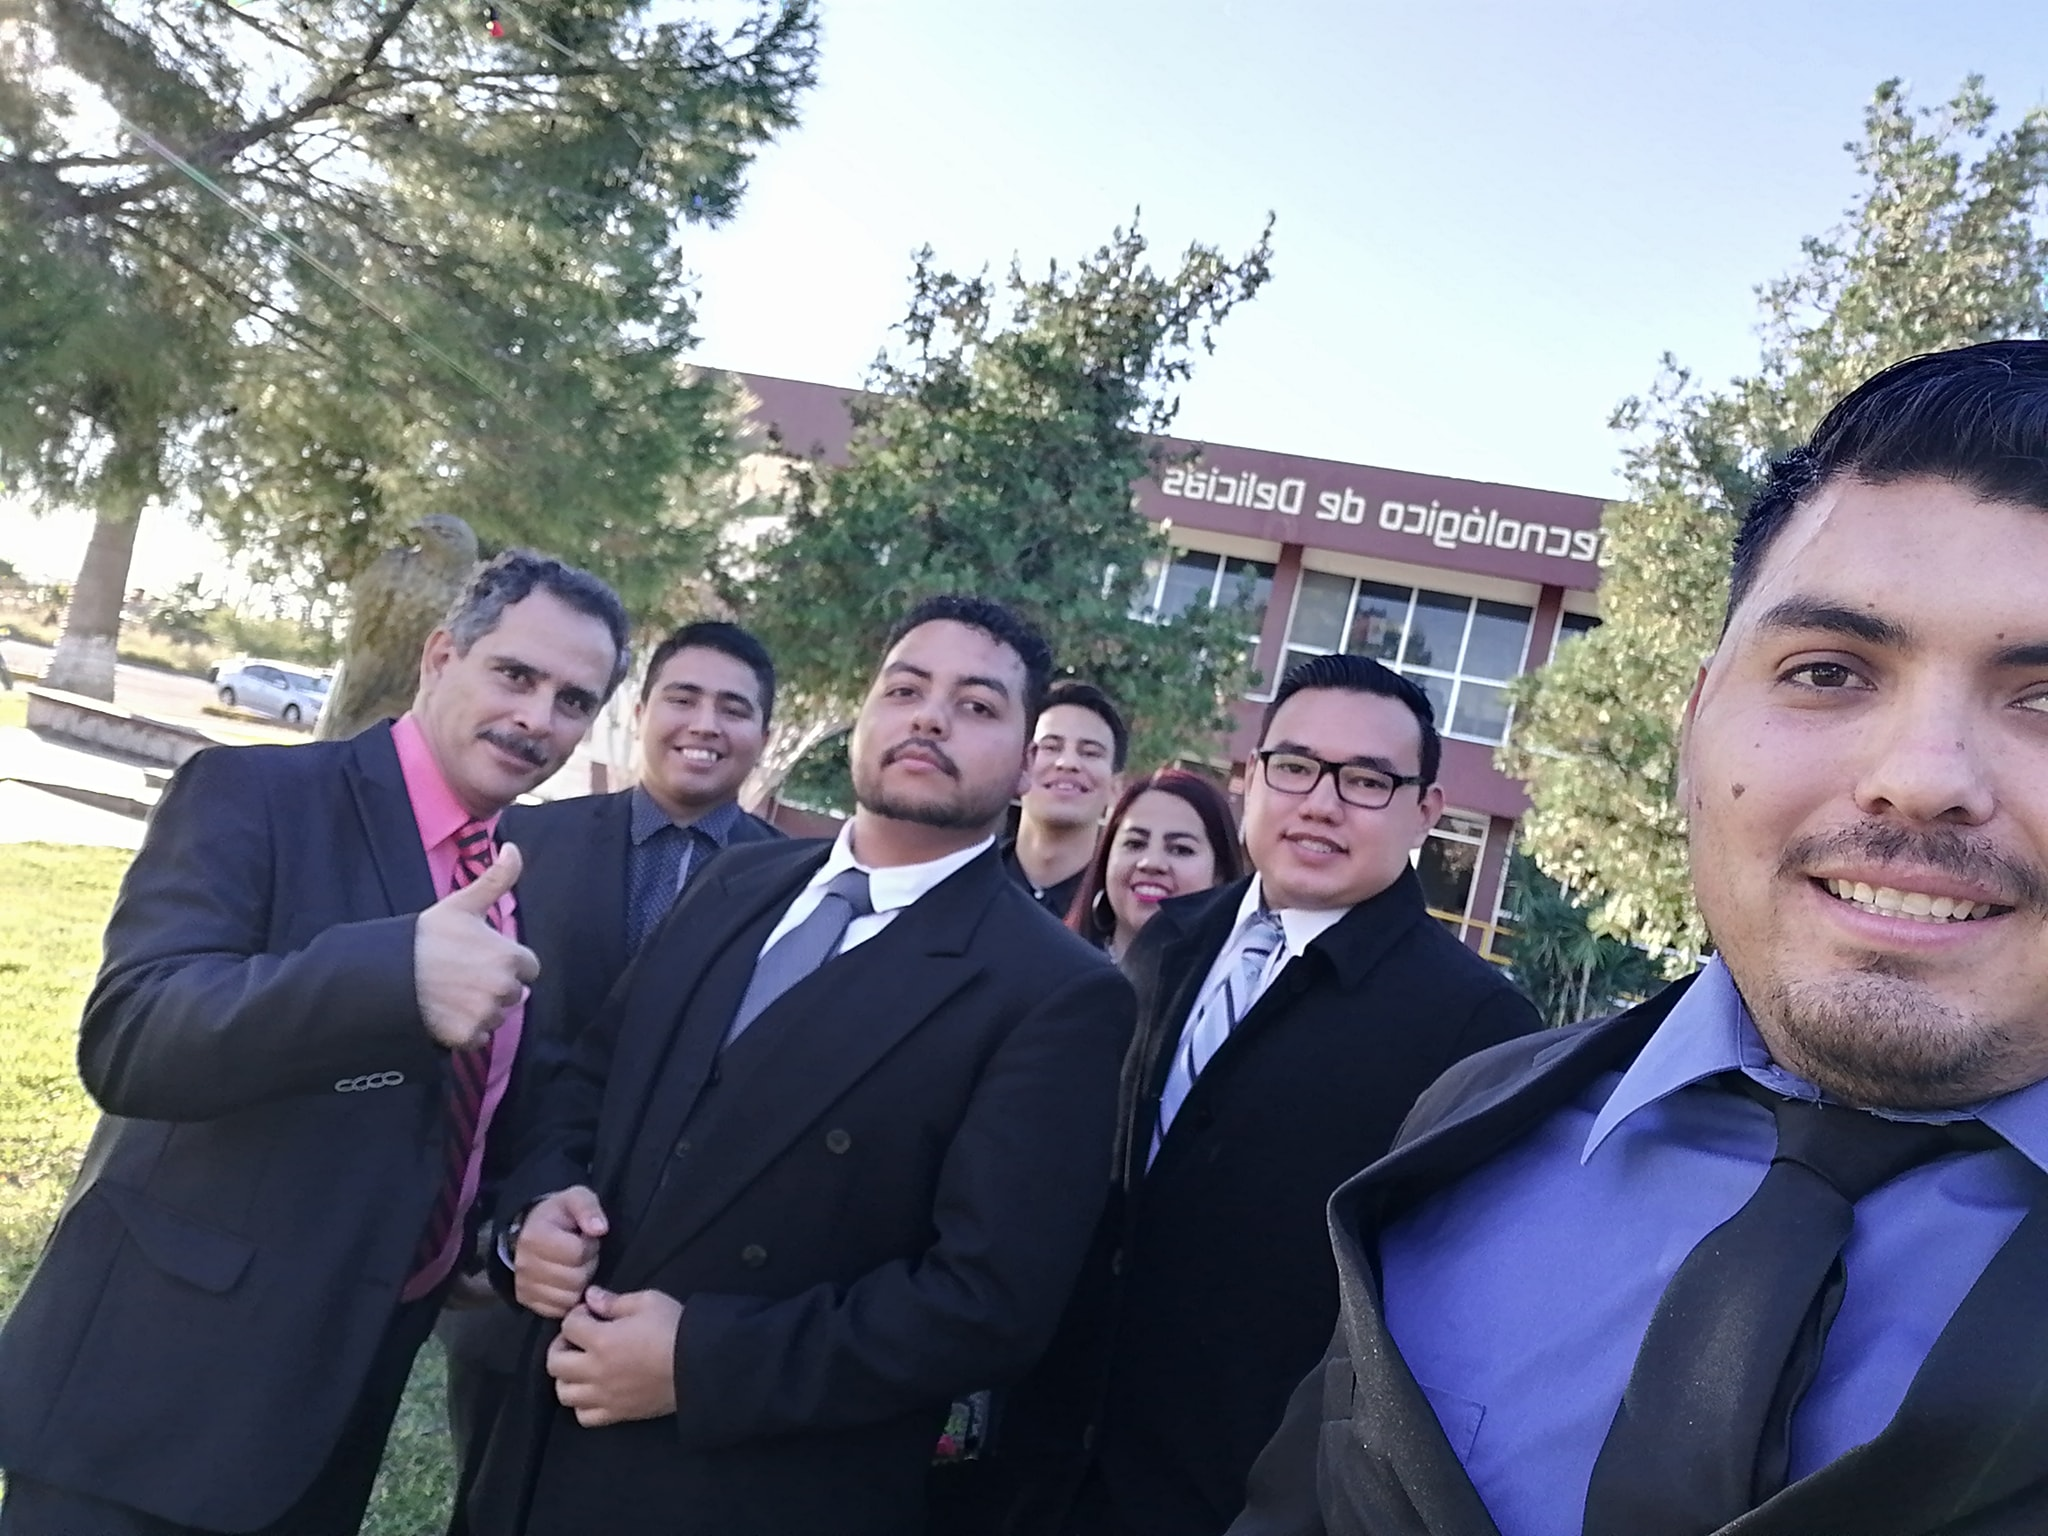Yoshi: (822, 557, 1037, 1021)
